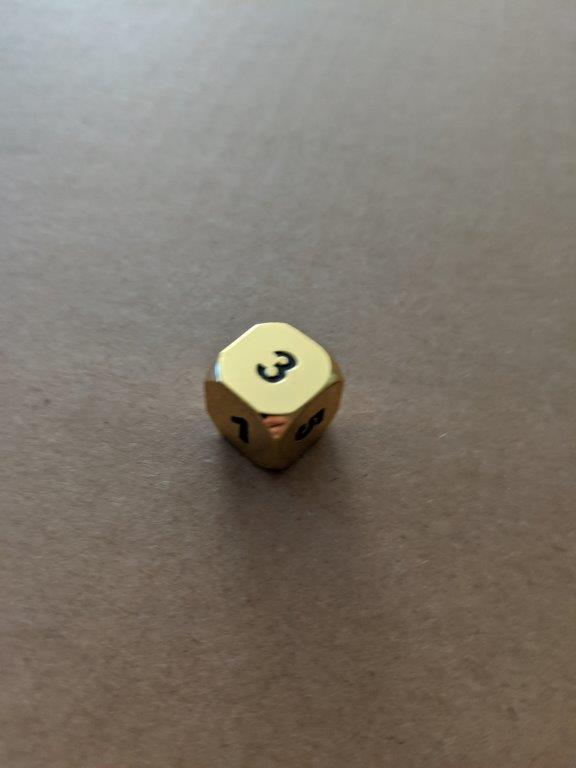d6-3: (203, 319, 344, 473)
